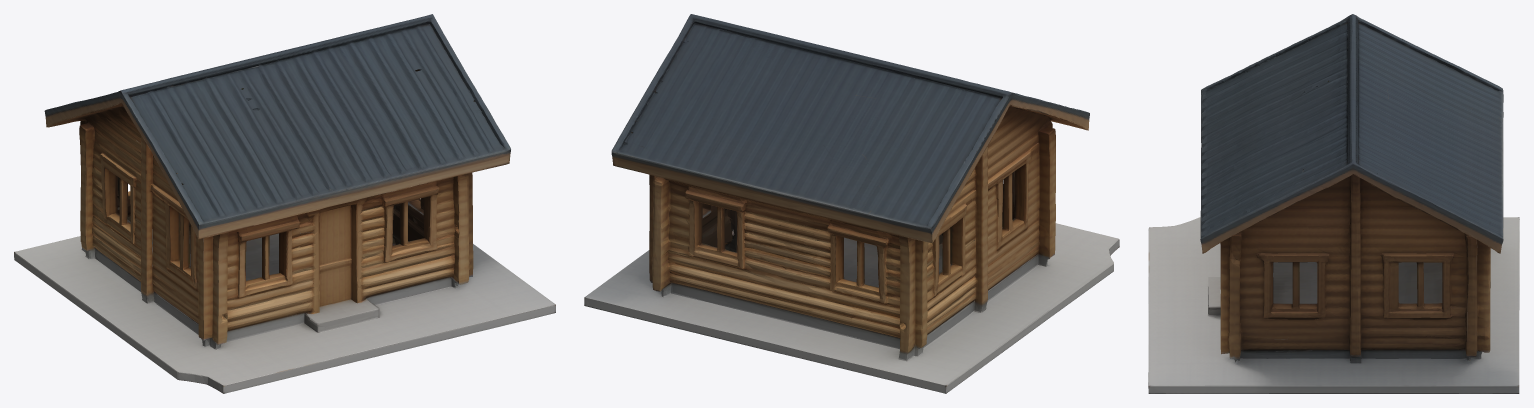
The model's file is cabin2.glb.
3 views of the same model, side by side, from view 1: azimuth 30°, elevation 25°; view 2: azimuth 150°, elevation 25°; view 3: azimuth 270°, elevation 25° (orthographic). The views are drawn at different scales.
Visible parts, largest first — view 1: world; view 2: world; view 3: world.
Part boxes in pixels (x1,y1,x2,y2): world: [14, 14, 555, 393]; world: [584, 14, 1119, 393]; world: [1148, 14, 1519, 393].
Bounding box in the file's own units: 1 × 0.6143 × 0.9298.
1 material, 1 textured.
